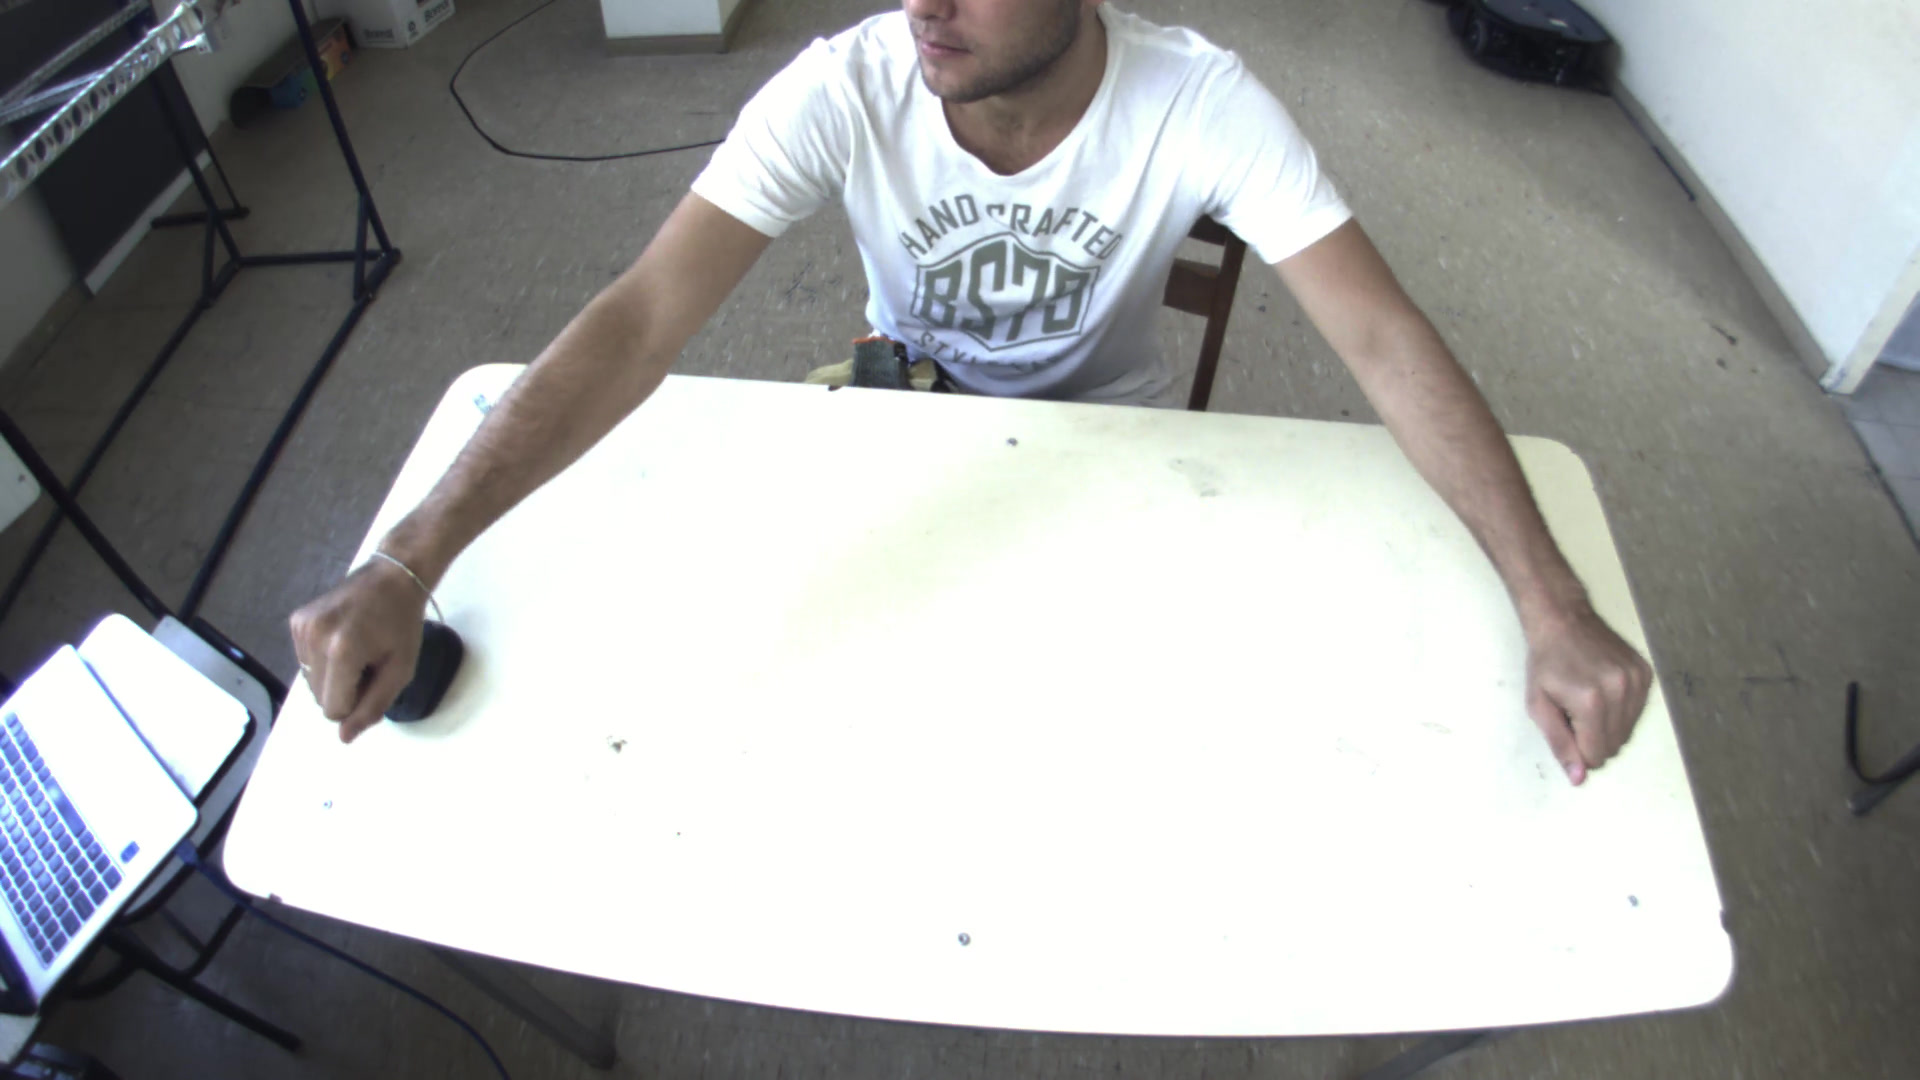hand: (278, 553, 436, 745), (1513, 603, 1664, 787)
